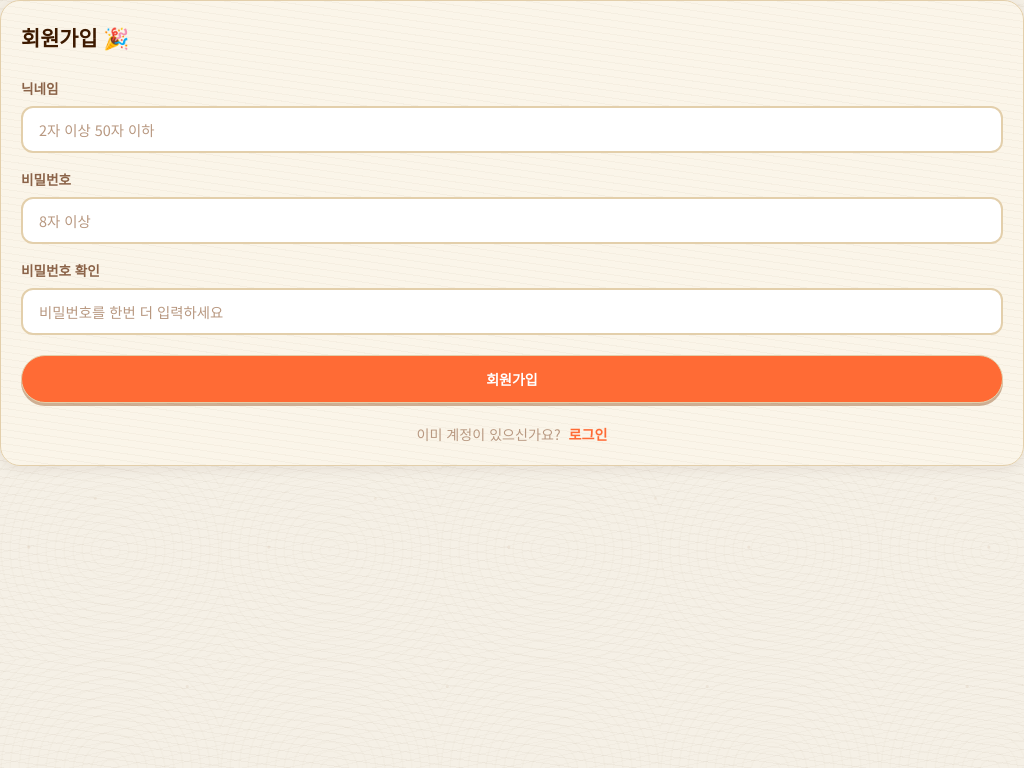
회원가입 페이지 › 비밀번호와 확인이 다르면 에러 메시지가 표시된다
Type "validnick" into the field with placeholder "2자 이상 50자 이하" at [512, 130], box [21,106,1003,153]
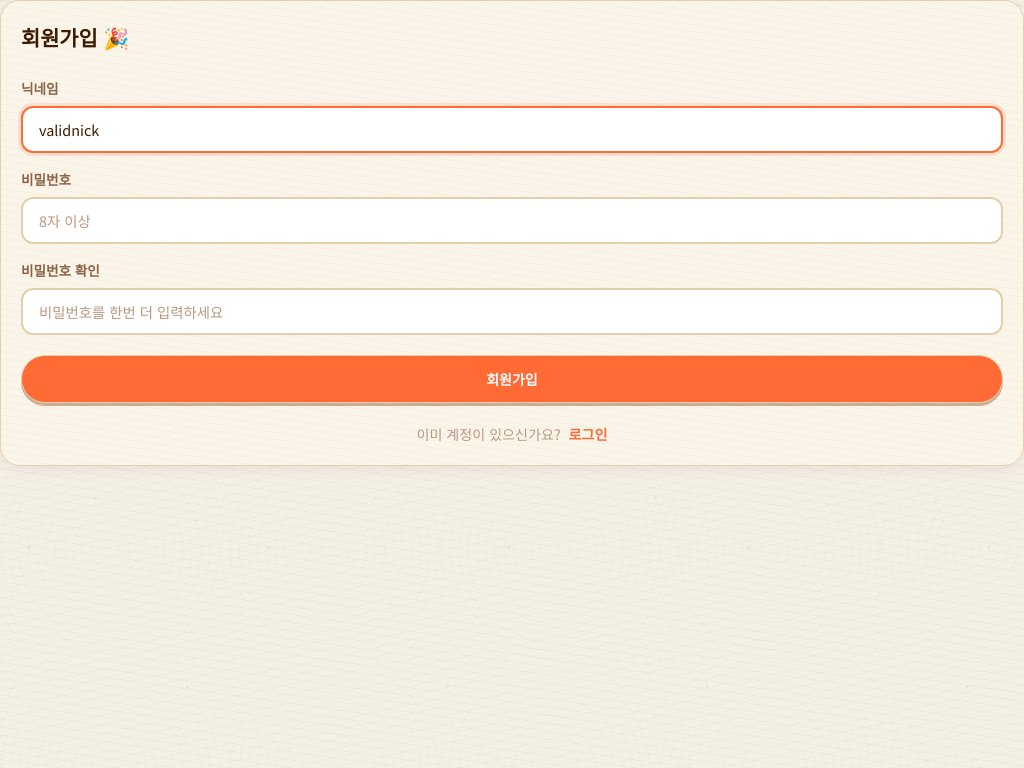
Type "password123" into the password field with placeholder "8자 이상" at [512, 220], box [21,197,1003,244]
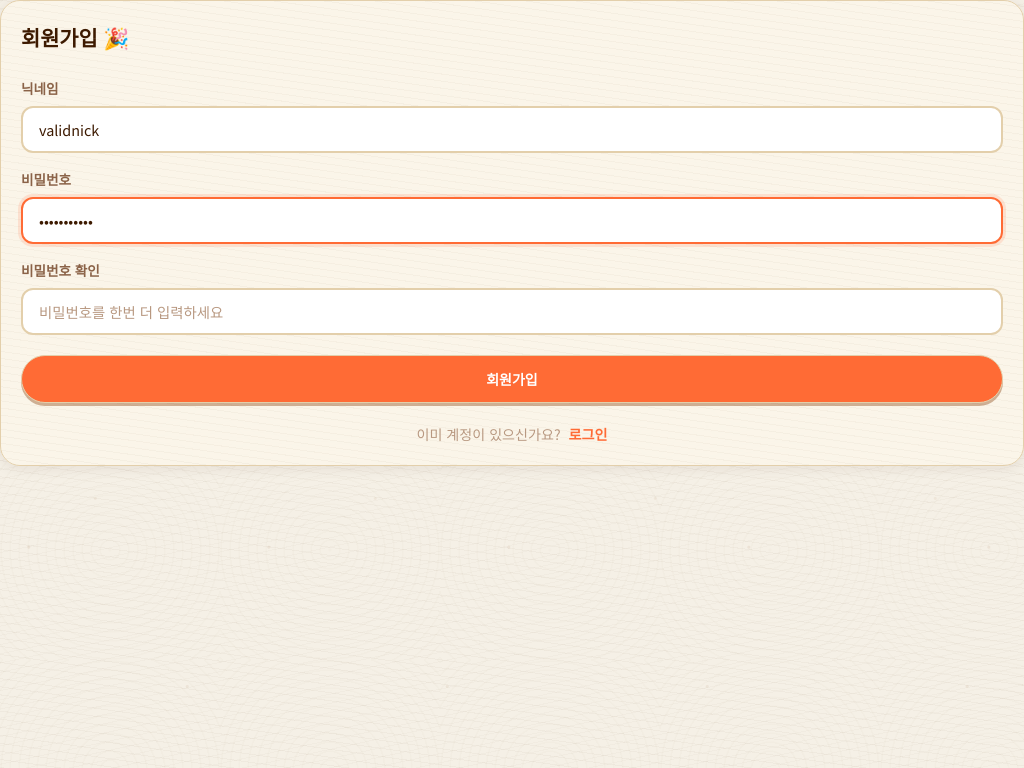
Type "different123" into the password field with placeholder "비밀번호를 한번 더 입력하세요" at [512, 311], box [21,288,1003,334]
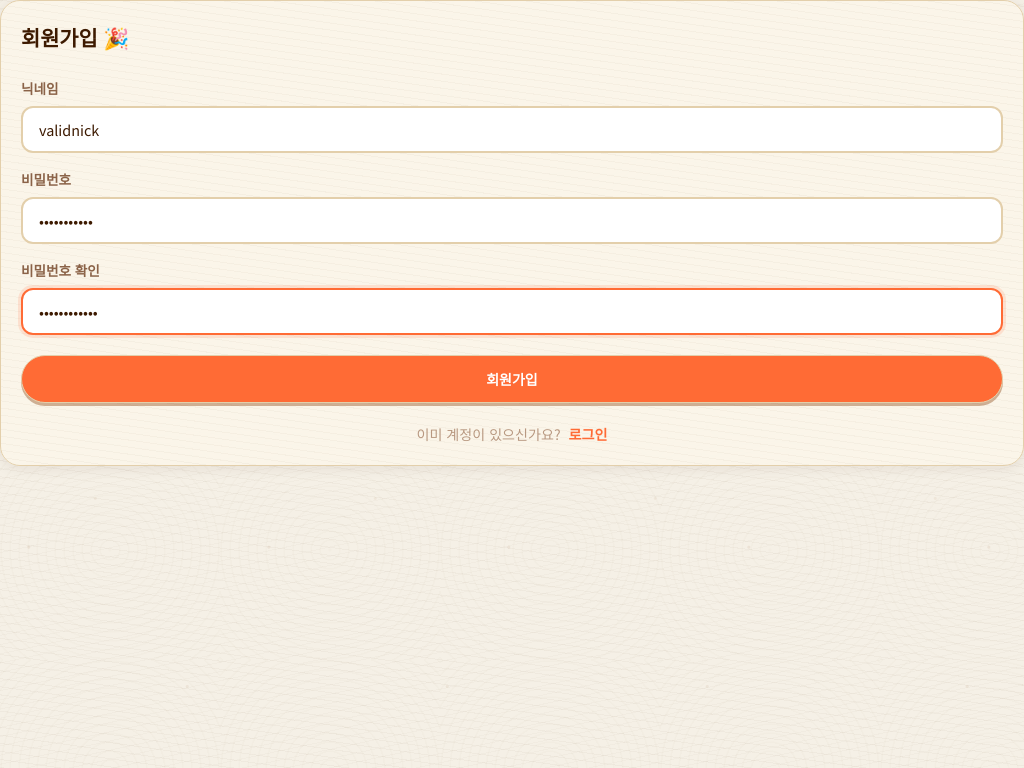
Click the button "회원가입" at [512, 379], box [21,355,1003,403]
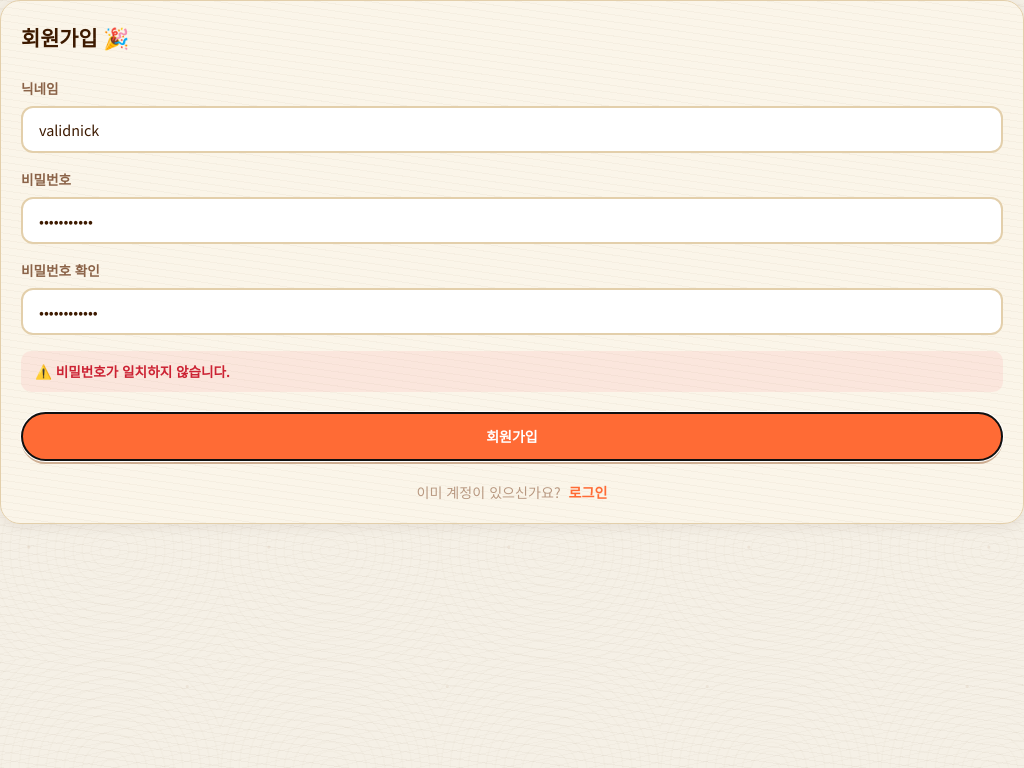
Result: the text "⚠️ 비밀번호가 일치하지 않습니다." is shown at [21,351,1003,392]
